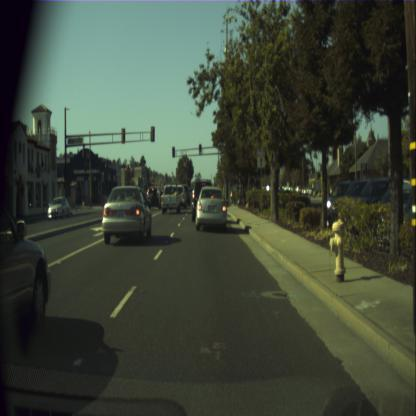Green: (198, 144, 202, 155)
off: (172, 146, 174, 157)
